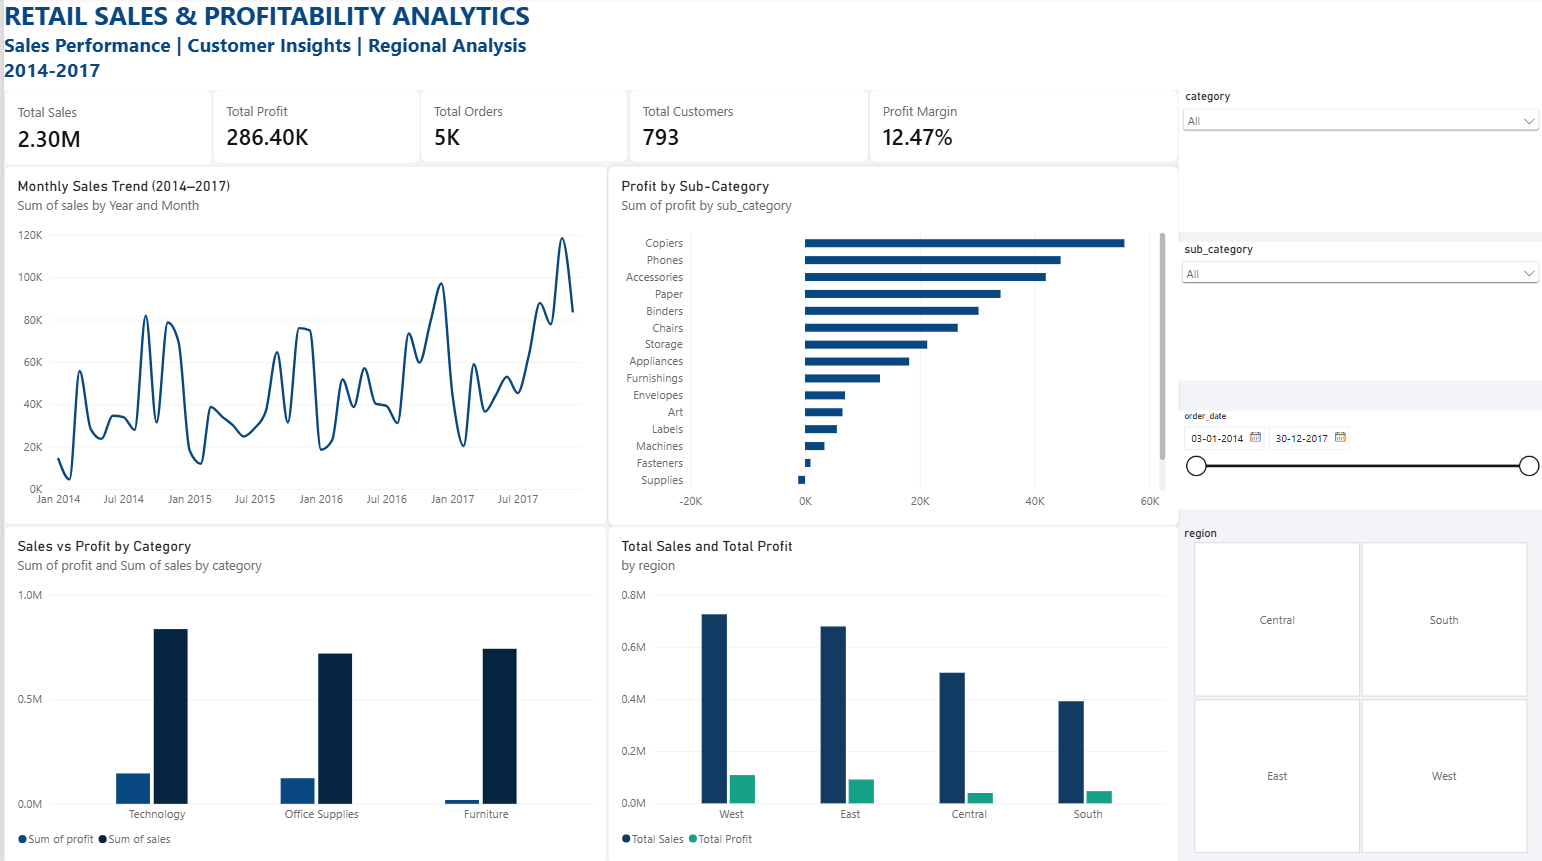

This screenshot's page, from the dashboard's own definition file:
{"tool":"powerbi","page":{"name":"Page 1","canvas":[1920,1080],"ordinal":0},"visuals":[{"type":"cardVisual","fields":{"Data":["superstore_cleaned.Total Profit"]},"box":[259.8,115.6,259.8,93.5],"z":0},{"type":"cardVisual","fields":{"Data":["superstore_cleaned.Total Orders"]},"box":[519.6,115.6,259.8,91.9],"z":1000},{"type":"cardVisual","fields":{"Data":["superstore_cleaned.Total Sales"]},"box":[0,115.6,259.8,95],"z":2000},{"type":"cardVisual","fields":{"Data":["superstore_cleaned.Total Customers"]},"box":[779.4,115.6,299.4,91.9],"z":3000},{"type":"cardVisual","fields":{"Data":["superstore_cleaned.Profit Margin"]},"box":[1078.8,115.6,386.5,91.9],"z":4000},{"type":"lineChart","title":"Monthly Sales Trend (2014–2017)","fields":{"Category":["superstore_cleaned.order_date.Variation.Date Hierarchy.Year","superstore_cleaned.order_date.Variation.Date Hierarchy.Month"],"Y":["Sum(superstore_cleaned.sales)"]},"box":[0,210.7,752.5,448.3],"z":5000},{"type":"clusteredColumnChart","title":"Sales vs Profit by Category","fields":{"Category":["superstore_cleaned.category"],"Y":["Sum(superstore_cleaned.profit)","Sum(superstore_cleaned.sales)"]},"box":[0,659,752,422],"z":6000},{"type":"clusteredBarChart","title":"Profit by Sub-Category","fields":{"Category":["superstore_cleaned.sub_category"],"Y":["Sum(superstore_cleaned.profit)"]},"box":[752.5,210.7,712.9,449.9],"z":7000},{"type":"clusteredColumnChart","fields":{"Category":["superstore_cleaned.region"],"Y":["superstore_cleaned.Total Sales","superstore_cleaned.Total Profit"]},"box":[752.5,659,712.9,421.4],"z":8000},{"type":"slicer","fields":{"Values":["superstore_cleaned.order_date"]},"box":[1463.8,516.4,454.7,122],"z":10000},{"type":"slicer","fields":{"Values":["superstore_cleaned.region"]},"box":[1463.8,659,454.7,410.3],"z":10001},{"type":"slicer","fields":{"Values":["superstore_cleaned.category"]},"box":[1465.3,115.6,454.7,177.4],"z":10002},{"type":"textbox","box":[0,0,1920,115.6],"z":10004},{"type":"slicer","fields":{"Values":["superstore_cleaned.sub_category"]},"box":[1463.8,305.7,456.2,172.7],"z":10005}]}

Visuals, with their boxes in screenshot pixels (x1, y1, x2, y2), scaled from the page's 1920x1080 canvas onto the 1542x861 screenshot:
cardVisual - superstore_cleaned.Total Profit: region(209, 92, 417, 167)
cardVisual - superstore_cleaned.Total Orders: region(417, 92, 626, 165)
cardVisual - superstore_cleaned.Total Sales: region(0, 92, 209, 168)
cardVisual - superstore_cleaned.Total Customers: region(626, 92, 866, 165)
cardVisual - superstore_cleaned.Profit Margin: region(866, 92, 1177, 165)
"Monthly Sales Trend (2014–2017)" lineChart: region(0, 168, 604, 525)
"Sales vs Profit by Category" clusteredColumnChart: region(0, 525, 604, 860)
"Profit by Sub-Category" clusteredBarChart: region(604, 168, 1177, 527)
clusteredColumnChart - superstore_cleaned.region x superstore_cleaned.Total Sales: region(604, 525, 1177, 860)
slicer - superstore_cleaned.order_date: region(1176, 412, 1541, 509)
slicer - superstore_cleaned.region: region(1176, 525, 1541, 852)
slicer - superstore_cleaned.category: region(1177, 92, 1541, 234)
textbox: region(0, 0, 1541, 92)
slicer - superstore_cleaned.sub_category: region(1176, 244, 1541, 381)
